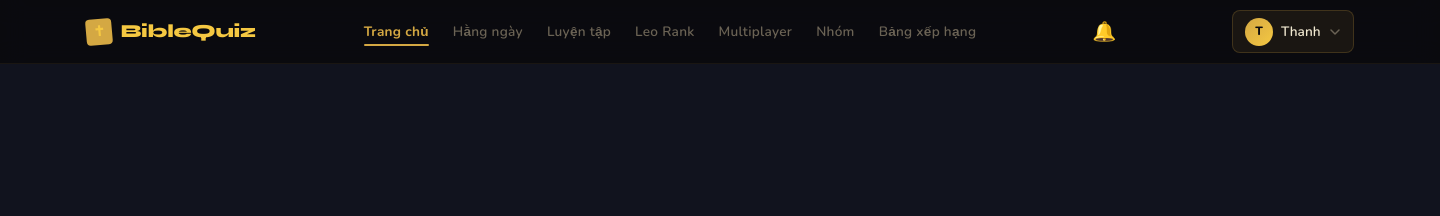
Test case: Header › toggles user dropdown on click
Click the button "T Thanh".
click(1293, 32)  # box [1232,10,1354,53]
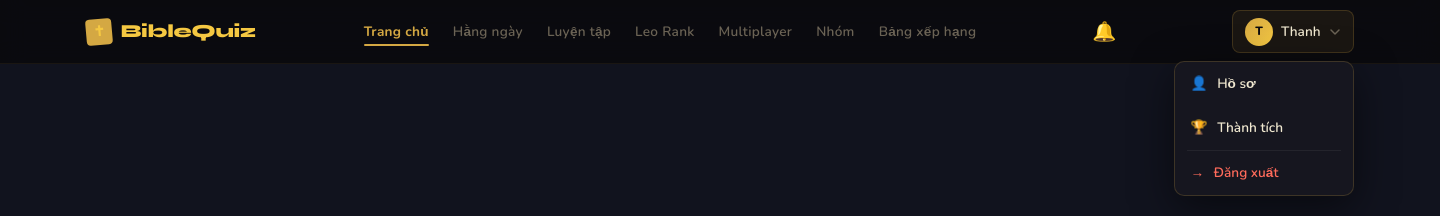
Check: the link "👤 Hồ sơ" is shown, box [1191,74,1256,93]
Check: the link "🏆 Thành tích" is shown, box [1191,118,1283,137]
Check: the button "→ Đăng xuất" is shown, box [1175,151,1353,195]
